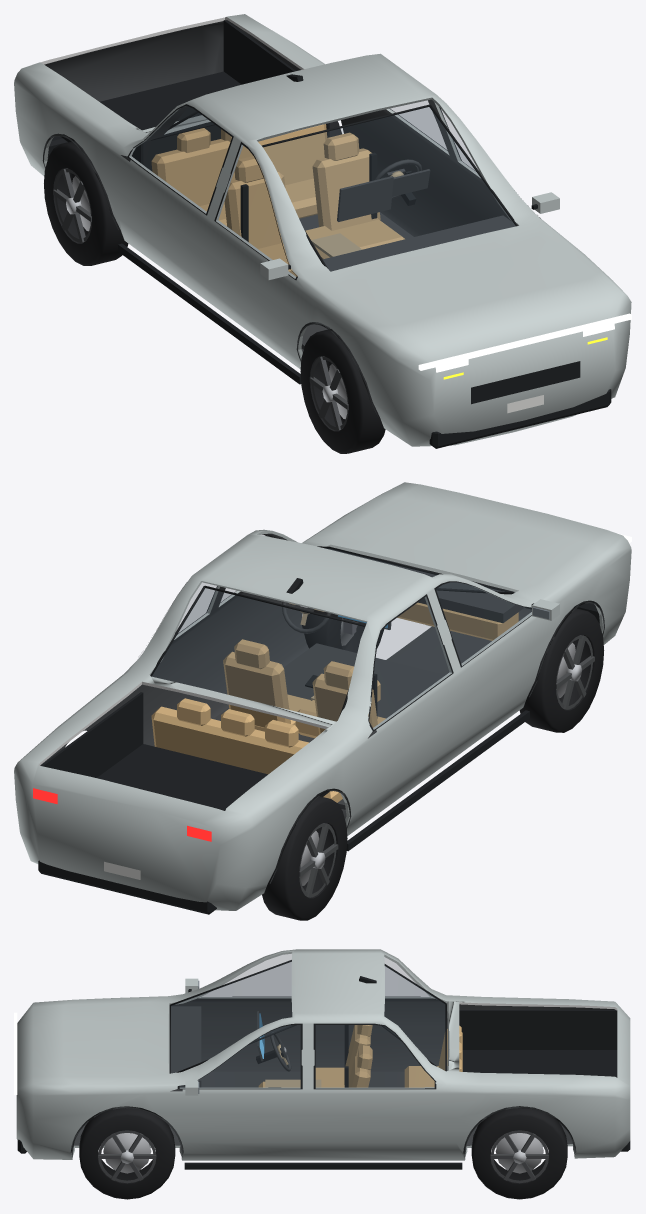
The model's file is fleet-cybertruck.glb.
3 renders of one model, top to bottom at view 1: azimuth 30°, elevation 25°; view 2: azimuth 150°, elevation 25°; view 3: azimuth 270°, elevation 25°, orthographic. The views are drawn at different scales.
Visible parts, largest first — view 1: Body, Surface_CarRoot_Glass, Surface_CarRoot_BlackTrim, Interior_CarRoot_InteriorLeather, Interior_CarRoot_InteriorDark, WheelFrontR_Tyre, WheelRearR_Tyre, Surface_CarRoot_Headlight, Surface_WheelFrontR_Rim, Surface_WheelRearR_Rim, InteriorSeatBaseL, Surface_CarRoot_Paint (+3 smaller); view 2: Body, Surface_CarRoot_Glass, Surface_CarRoot_BlackTrim, Interior_CarRoot_InteriorLeather, Interior_CarRoot_InteriorDark, WheelRearR_Tyre, WheelFrontR_Tyre, WheelFrontL_Tyre, Surface_WheelRearR_Rim, Surface_WheelFrontR_Rim, Surface_CarRoot_Cladding; view 3: Body, Surface_CarRoot_Glass, Surface_CarRoot_BlackTrim, WheelFrontL_Tyre, WheelRearL_Tyre, Interior_CarRoot_InteriorDark, Interior_CarRoot_InteriorLeather, Surface_WheelFrontL_Rim, Surface_WheelRearL_Rim, WheelFrontL_BrakeDisc, WheelRearL_BrakeDisc, Surface_CarRoot_Cladding (+3 smaller).
Boxes of the visible parts, <box> form: Body: <box>14,14,631,446</box>; Surface_CarRoot_Glass: <box>129,101,515,277</box>; Surface_CarRoot_BlackTrim: <box>47,20,611,448</box>; Interior_CarRoot_InteriorLeather: <box>151,124,380,276</box>; Interior_CarRoot_InteriorDark: <box>299,169,515,349</box>; WheelFrontR_Tyre: <box>300,329,385,453</box>; WheelRearR_Tyre: <box>44,141,128,265</box>; Surface_CarRoot_Headlight: <box>418,313,631,372</box>; Surface_WheelFrontR_Rim: <box>309,356,348,430</box>; Surface_WheelRearR_Rim: <box>53,168,91,242</box>; InteriorSeatBaseL: <box>332,219,404,249</box>; Surface_CarRoot_Paint: <box>260,192,559,279</box>; Body: <box>14,482,631,910</box>; Surface_CarRoot_Glass: <box>152,534,531,728</box>; Surface_CarRoot_BlackTrim: <box>38,534,599,914</box>; Interior_CarRoot_InteriorLeather: <box>151,602,518,802</box>; Interior_CarRoot_InteriorDark: <box>213,549,524,809</box>; WheelRearR_Tyre: <box>262,795,347,920</box>; WheelFrontR_Tyre: <box>519,607,604,732</box>; WheelFrontL_Tyre: <box>302,610,384,652</box>; Surface_WheelRearR_Rim: <box>299,823,338,897</box>; Surface_WheelFrontR_Rim: <box>556,635,594,709</box>; Surface_CarRoot_Cladding: <box>85,600,604,883</box>; Body: <box>16,949,630,1160</box>; Surface_CarRoot_Glass: <box>171,954,445,1088</box>; Surface_CarRoot_BlackTrim: <box>17,960,630,1169</box>; WheelFrontL_Tyre: <box>79,1106,175,1199</box>; WheelRearL_Tyre: <box>471,1106,567,1199</box>; Interior_CarRoot_InteriorDark: <box>171,1006,404,1087</box>; Interior_CarRoot_InteriorLeather: <box>258,1025,462,1087</box>; Surface_WheelFrontL_Rim: <box>98,1130,156,1183</box>; Surface_WheelRearL_Rim: <box>490,1130,548,1183</box>; WheelFrontL_BrakeDisc: <box>103,1133,151,1173</box>; WheelRearL_BrakeDisc: <box>495,1133,543,1173</box>; Surface_CarRoot_Cladding: <box>70,1106,576,1153</box>.
Bounding box in the file's own units: 2.38 × 1.82 × 5.72.
